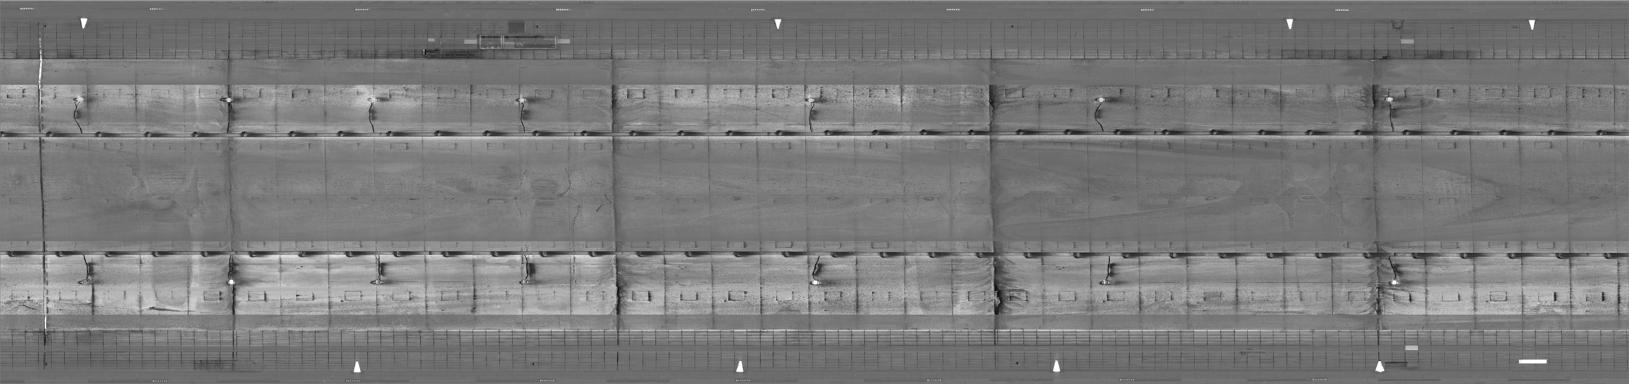light: (804, 274, 826, 289), (509, 93, 530, 108), (367, 275, 388, 289), (221, 276, 242, 290), (219, 93, 240, 106), (363, 94, 381, 108), (514, 276, 535, 287), (801, 94, 820, 106), (75, 276, 94, 287), (1386, 277, 1403, 290), (1097, 277, 1115, 289), (1381, 93, 1397, 105), (66, 94, 86, 104), (1093, 94, 1109, 106)
